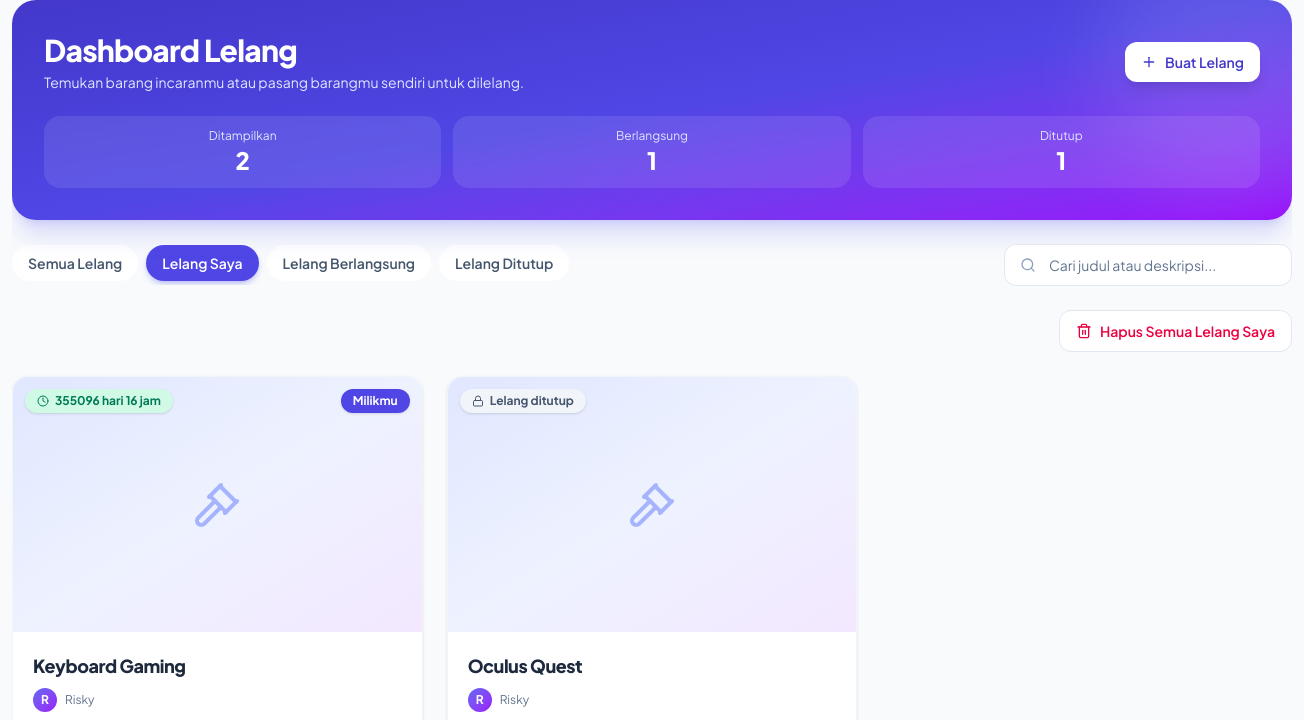
Test case: HomePage › hapus semua lelang saya › menonaktifkan tombol saat proses berjalan
Click the button "Hapus Semua Lelang Saya" at (1175, 331), box [1059,310,1292,352]
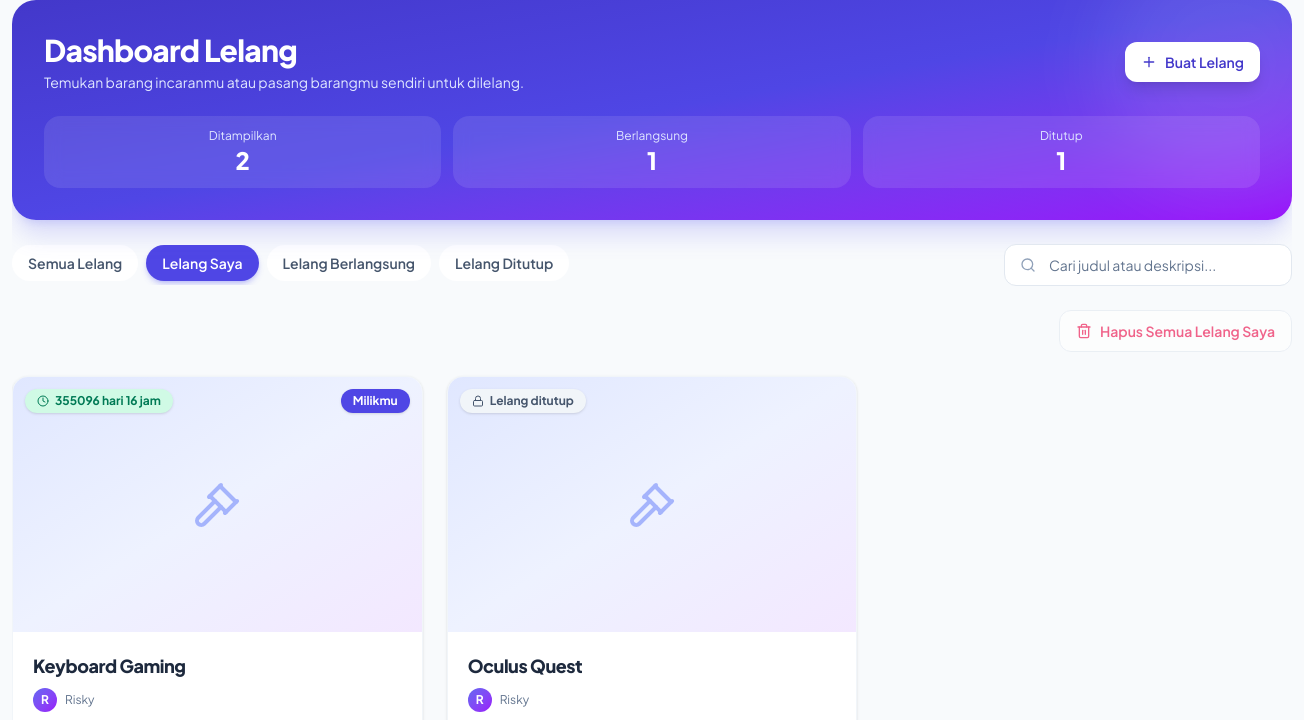
Now the button "Hapus Semua Lelang Saya" is disabled, box [1059,310,1292,352]
